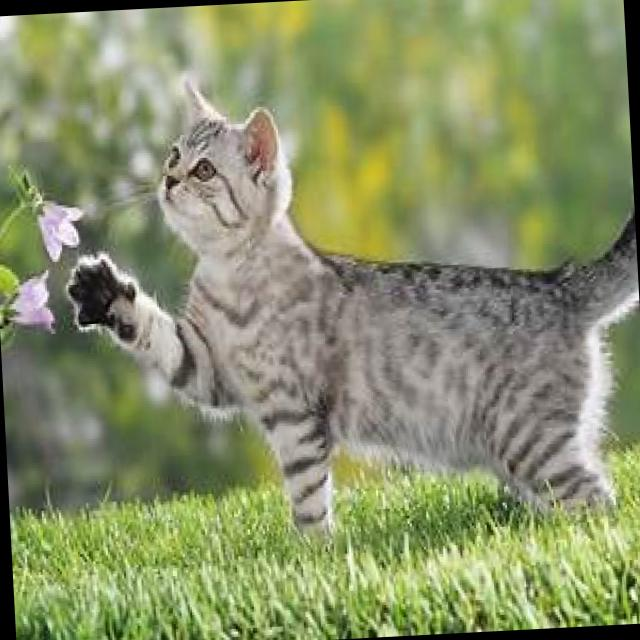animal: (48, 3, 615, 640)
